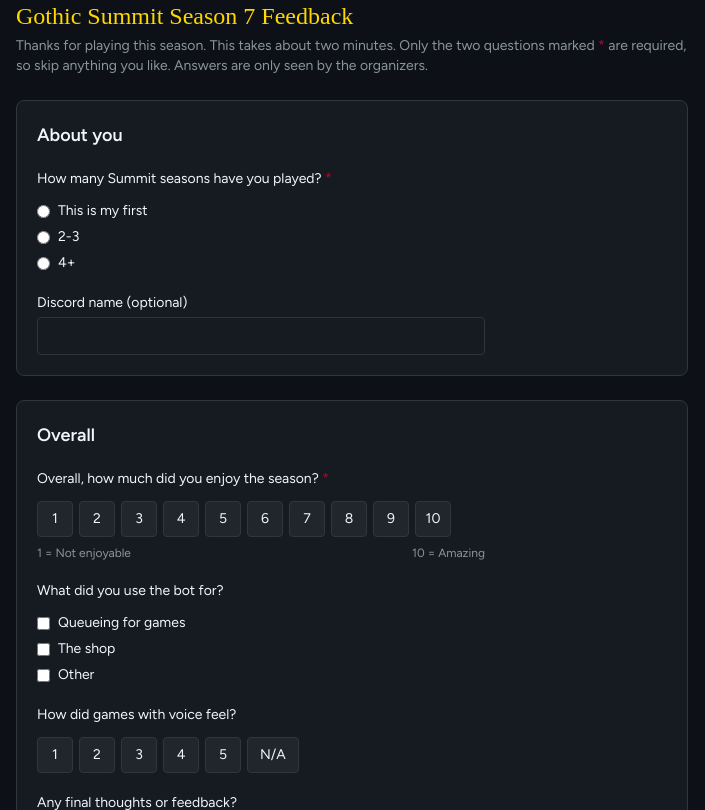
Test: SeasonFeedback page › shows the API error when submission fails
This screenshot has width=705, height=810.
Expected: the heading "Gothic Summit Season 7 Feedback" is shown, [16,3,353,29]
Step 1. Click the radio button labelled "2-3" → coordinates (44, 237), box [37,230,50,244]
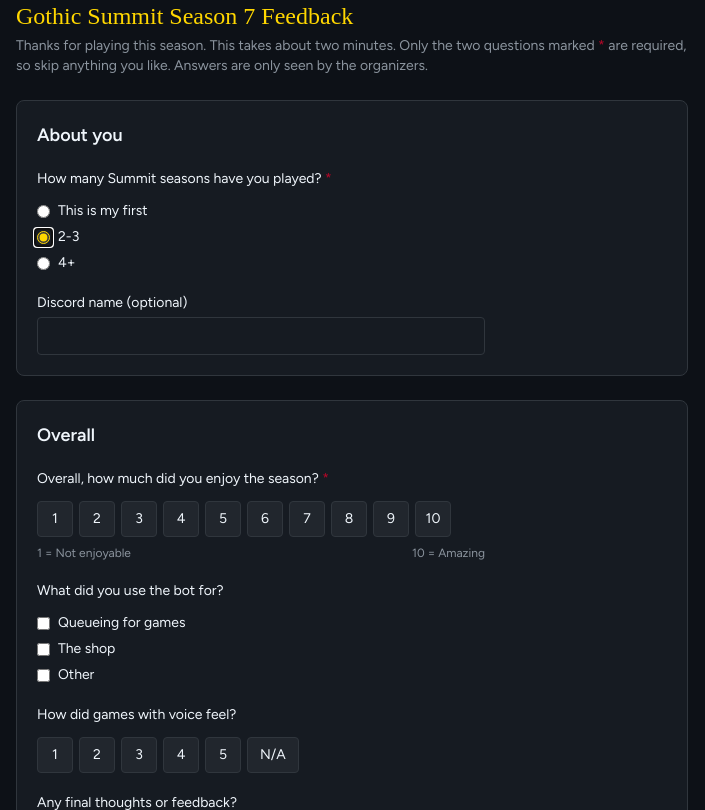
Step 2. Click the 1st radio button labelled "1" → coordinates (55, 519), box [37,501,73,537]
(page scrolled)
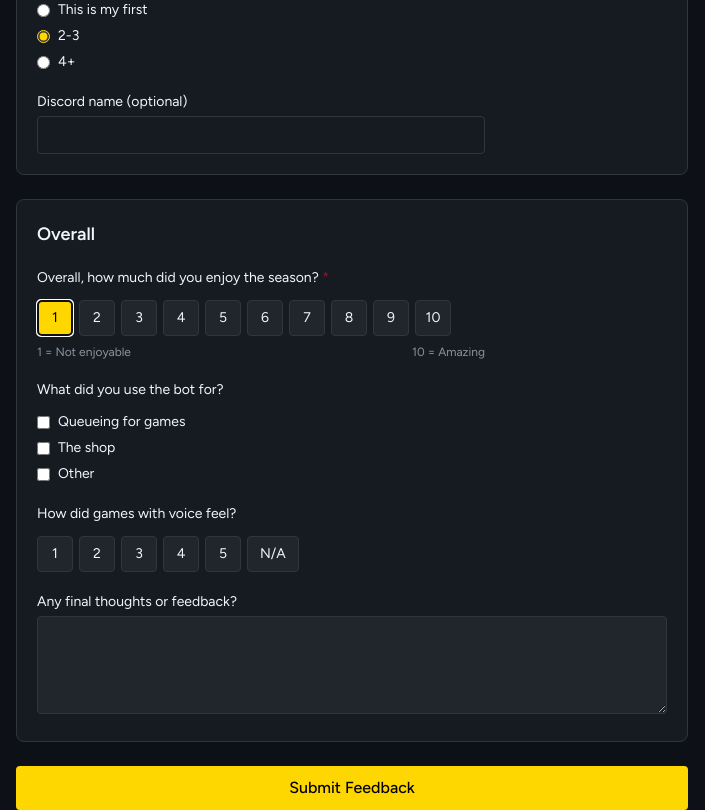
Step 3. Click the button "Submit Feedback" → coordinates (352, 788), box [16,766,688,809]
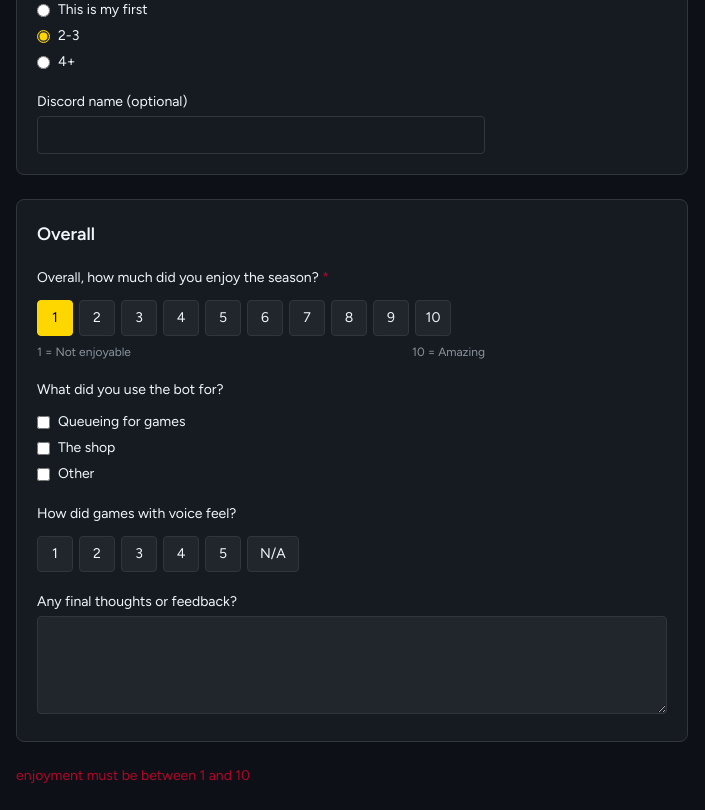
Now the message reads "enjoyment must be between 1 and 10", box [16,767,250,784]
